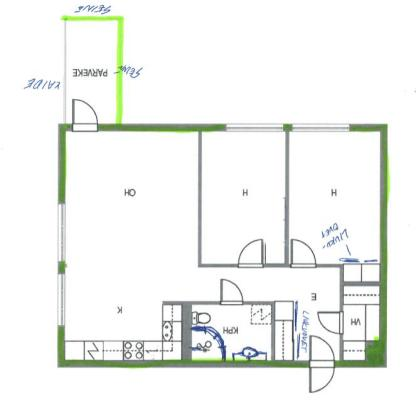door: (307, 333, 338, 395), (217, 276, 250, 314), (69, 98, 103, 134), (238, 233, 266, 268), (289, 238, 318, 269), (316, 311, 343, 333)
window: (56, 274, 68, 328), (224, 121, 282, 132), (291, 123, 347, 133), (58, 203, 66, 261)
zone: (67, 132, 338, 361), (290, 131, 378, 263), (200, 132, 286, 264), (64, 19, 116, 123), (190, 305, 270, 359), (342, 266, 380, 358)
